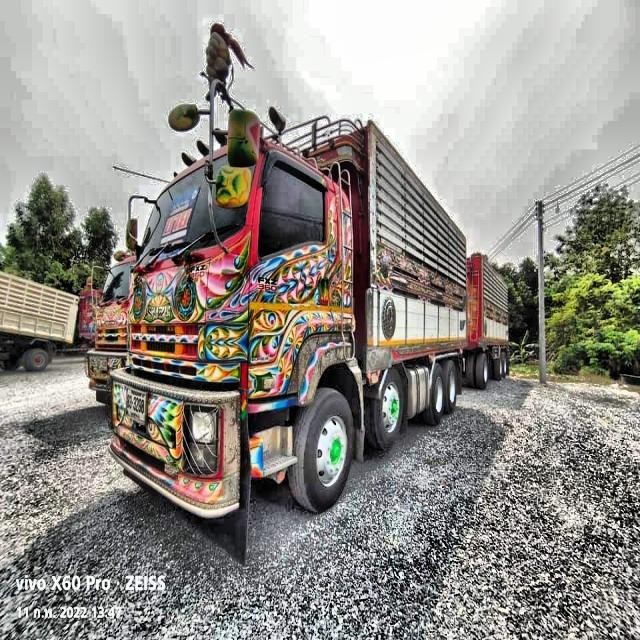trailer: (109, 25, 510, 565)
